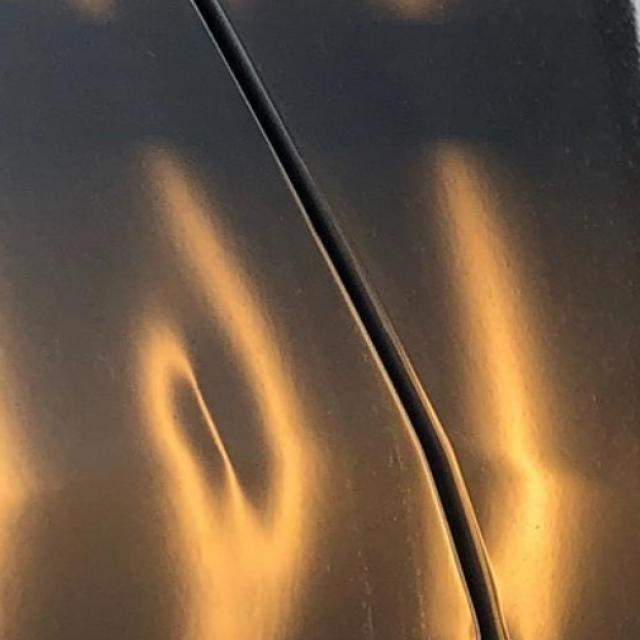dents: (101, 247, 314, 542)
